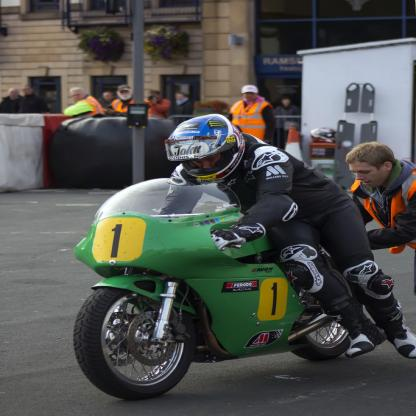Helmet: (160, 113, 254, 185), (304, 128, 338, 142)
